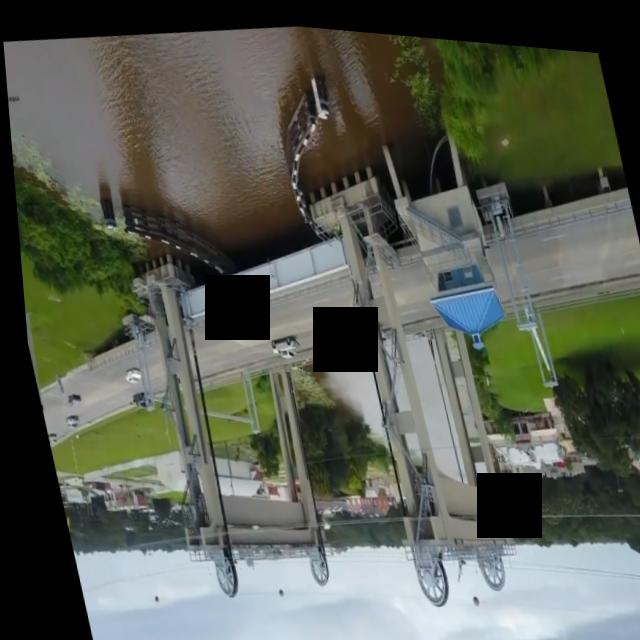Building: (307, 173, 524, 610), (114, 236, 339, 602), (367, 124, 513, 359), (474, 180, 562, 390)
Pole: (20, 307, 74, 528)
Tree: (534, 321, 640, 479)
Vehicle: (255, 323, 301, 360), (112, 352, 147, 393), (345, 316, 365, 352), (55, 387, 82, 413)
